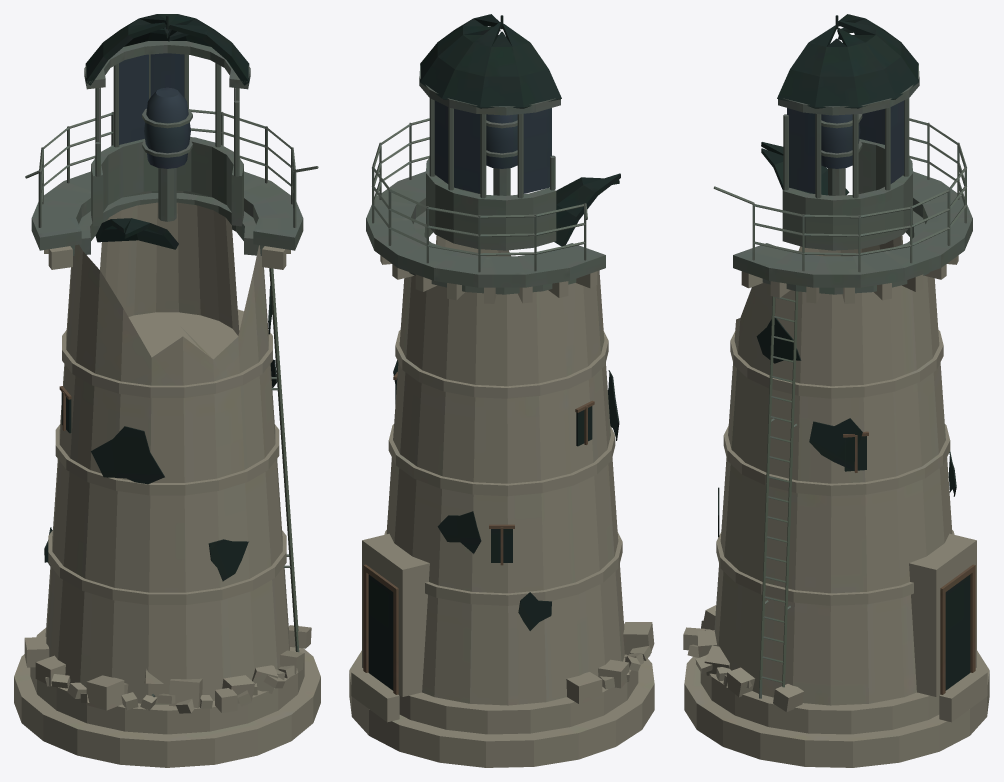
File: suluan-damaged-lighthouse.glb
The picture shows the model from 3 angles, left to right: view 1: azimuth 30°, elevation 25°; view 2: azimuth 150°, elevation 25°; view 3: azimuth 270°, elevation 25°; orthographic projection.
Parts seen in each view (by area): view 1: Tower, suluan-damaged-lighthouse_dark, Gallery, Lantern, DamageDebris, DamagedCrown; view 2: Tower, suluan-damaged-lighthouse_dark, Gallery, DamagedCrown, Lantern, DamageDebris; view 3: Tower, suluan-damaged-lighthouse_dark, Gallery, Lantern, DamagedCrown, DamageDebris.
Boxes of the visible parts, x1,y1,x2,y2 form: Tower: (14,202,320,767); suluan-damaged-lighthouse_dark: (44,53,299,697); Gallery: (25,109,318,255); Lantern: (84,41,250,226); DamageDebris: (24,625,311,713); DamagedCrown: (85,14,249,249); Tower: (349,194,654,767); suluan-damaged-lighthouse_dark: (363,100,619,694); Gallery: (366,118,605,294); DamagedCrown: (420,14,620,246); Lantern: (419,64,560,250); DamageDebris: (566,622,654,703); Tower: (684,194,989,767); suluan-damaged-lighthouse_dark: (718,100,975,698); Gallery: (713,118,972,294); Lantern: (778,64,919,250); DamagedCrown: (761,14,918,195); DamageDebris: (683,605,804,712).
Size of the model in its own units: 4.67 by 11.62 by 4.69.
Materials: 1 (1 with a texture image).
